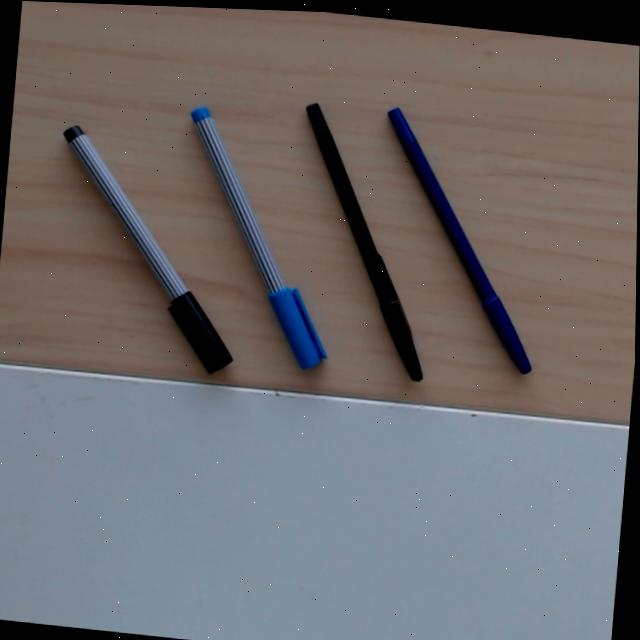Pulpen-Biru: (383, 106, 536, 376)
Pulpen-Garis-Biru: (185, 101, 329, 371)
Pulpen-Garis-Hitam: (55, 113, 234, 375)
Pulpen-Hitam: (304, 100, 428, 385)
